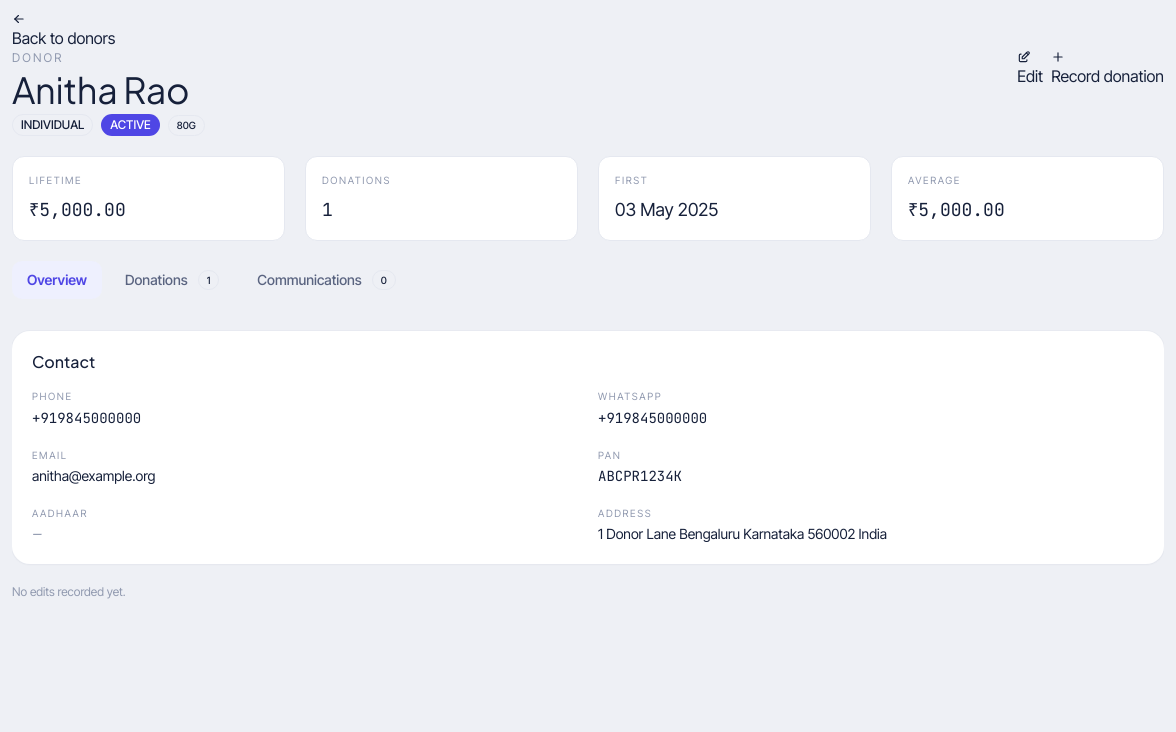
Test case: donor profile donation rows › puts download, email and WhatsApp on the row, each naming where it goes
The width and height of the screenshot is (1176, 732).
Click the tab "Donations 1" at (172, 280), box [110, 261, 234, 299]
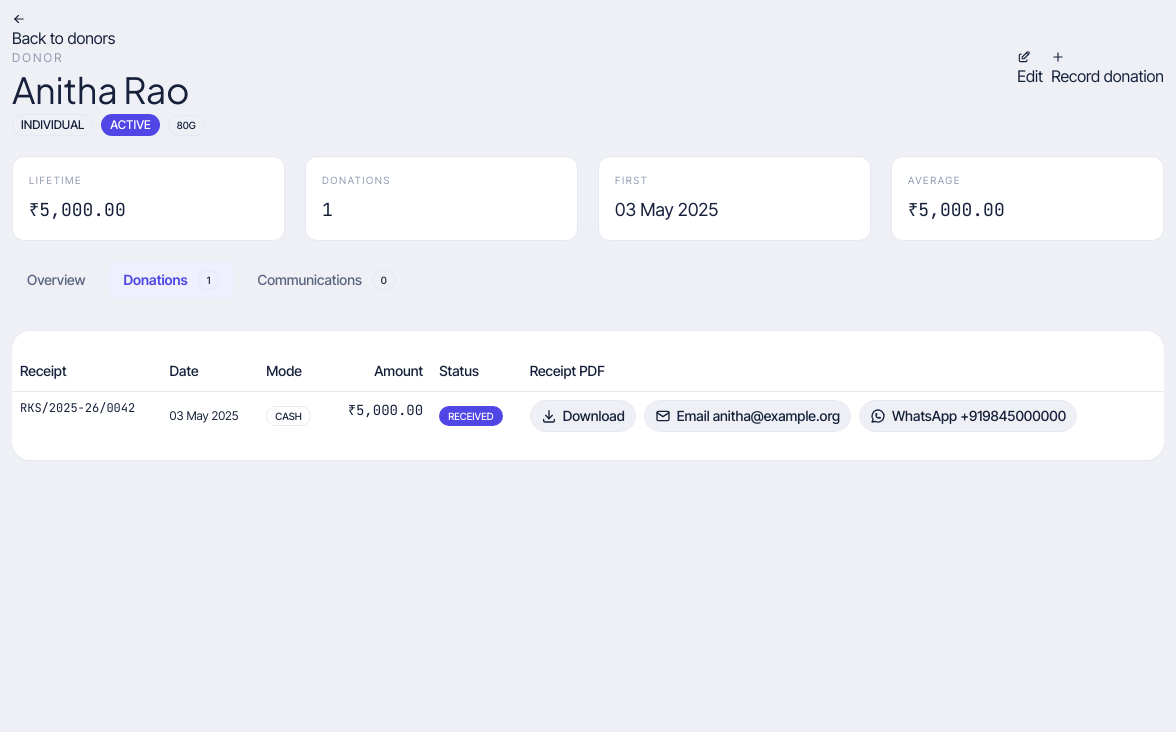
expect the button "Email anitha@example.org" is shown: met, box [644, 400, 851, 432]
expect the button "Download" is shown: met, box [530, 400, 636, 432]
